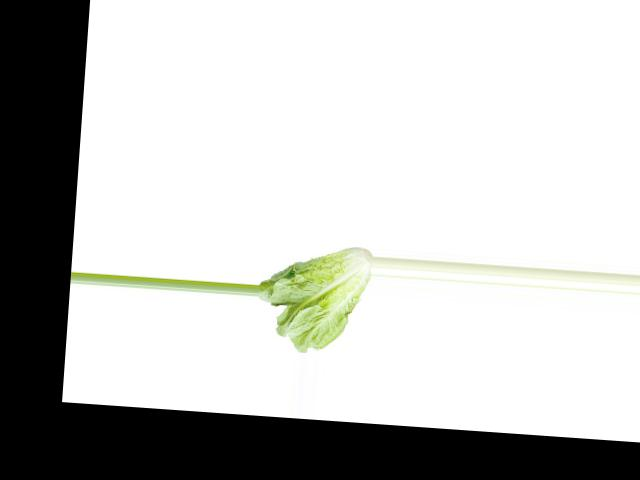lettuce: (257, 240, 372, 358)
